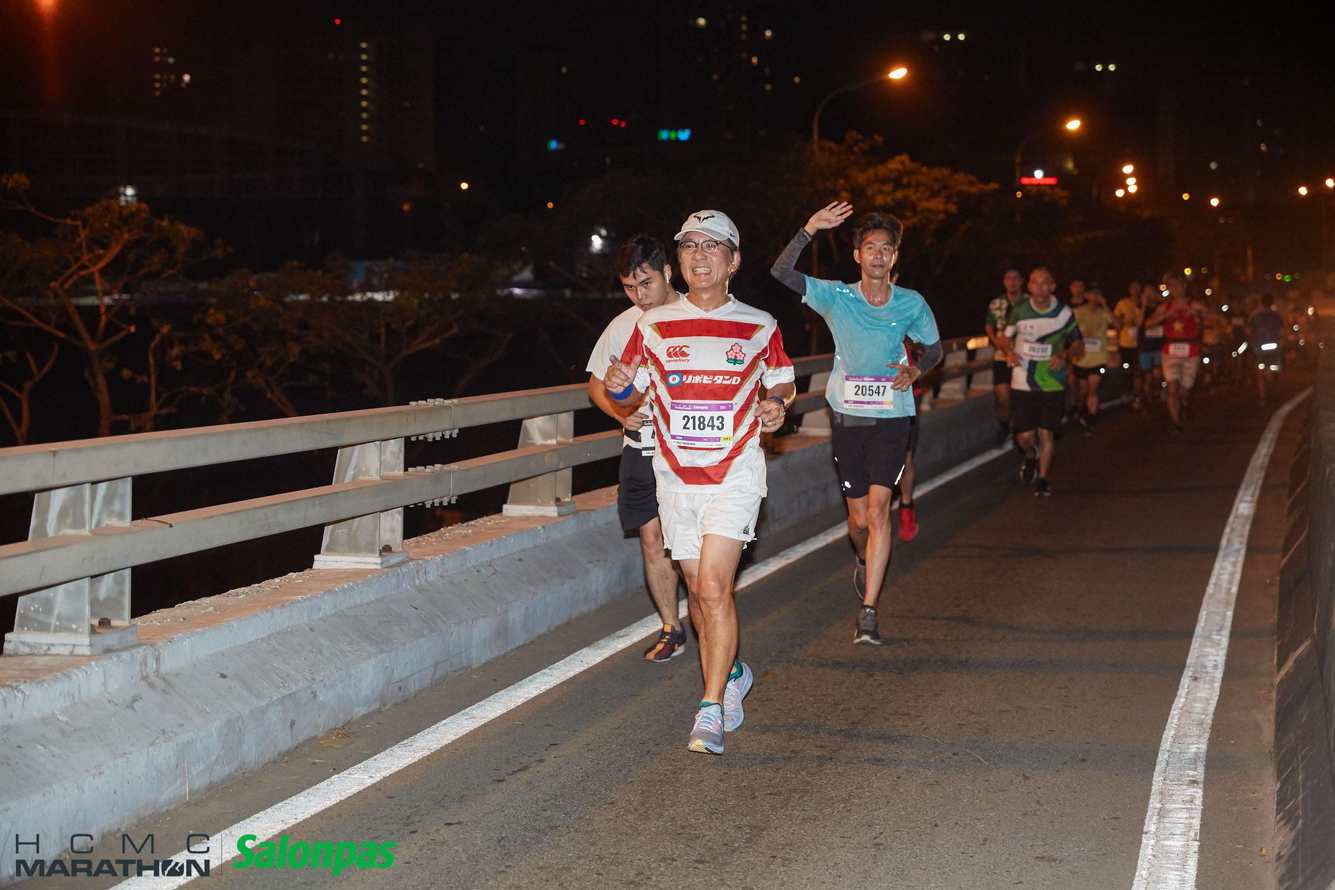bib: (670, 399, 737, 448), (846, 379, 896, 412), (1023, 344, 1050, 362)
